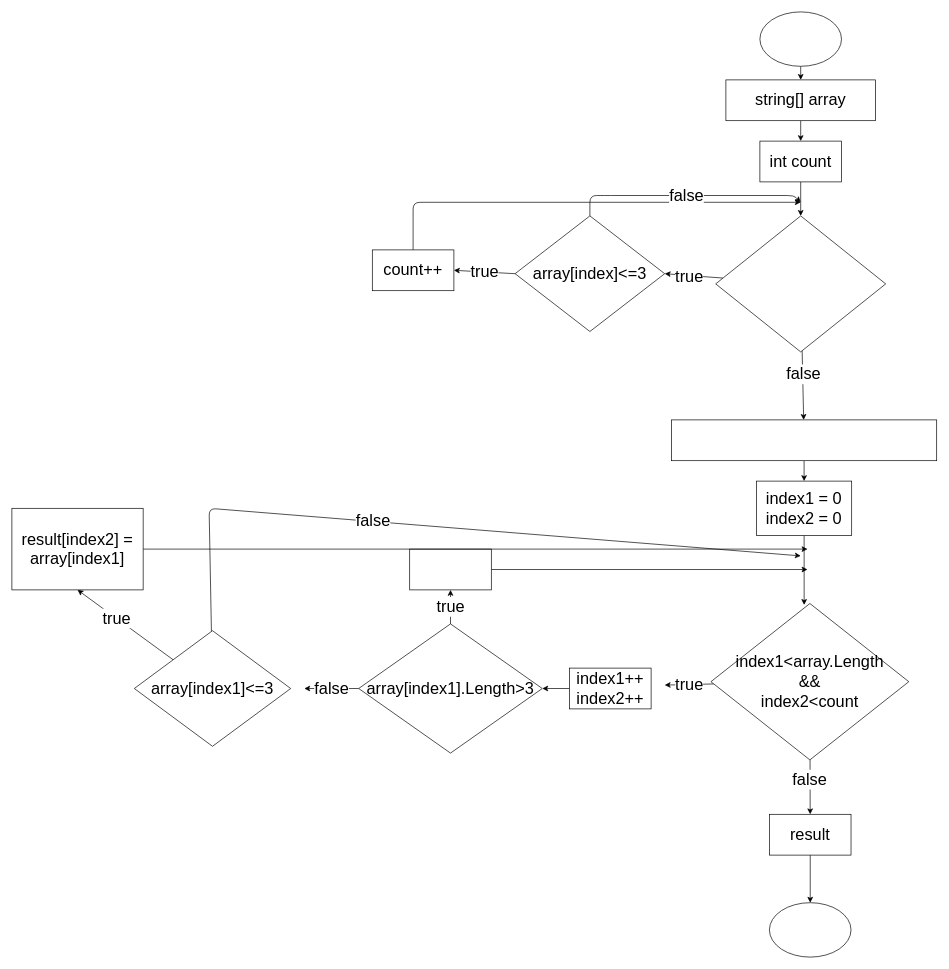
The diagram is 949 pixels wide and 969 high, and some of its shapes have lost their labels. Each missing label, with the centre of its shape:
"end" goes at (810,929).
"index2--" goes at (450,569).
"index<array.Length" goes at (800,283).
"start" goes at (800,38).
"string[] result = new string[count]" goes at (804,440).
